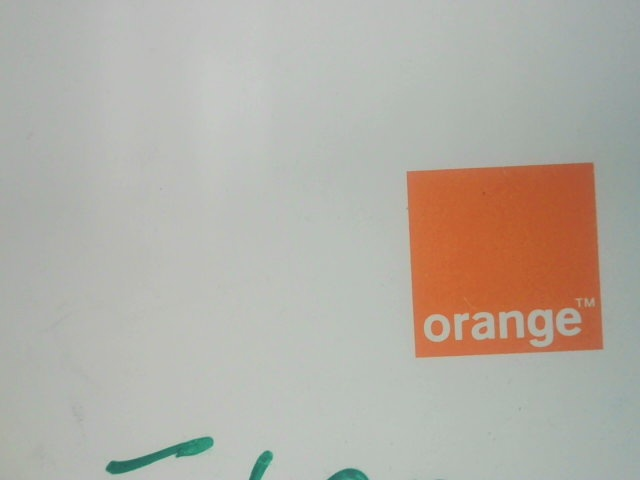AR_Orange: (400, 163, 611, 361)
